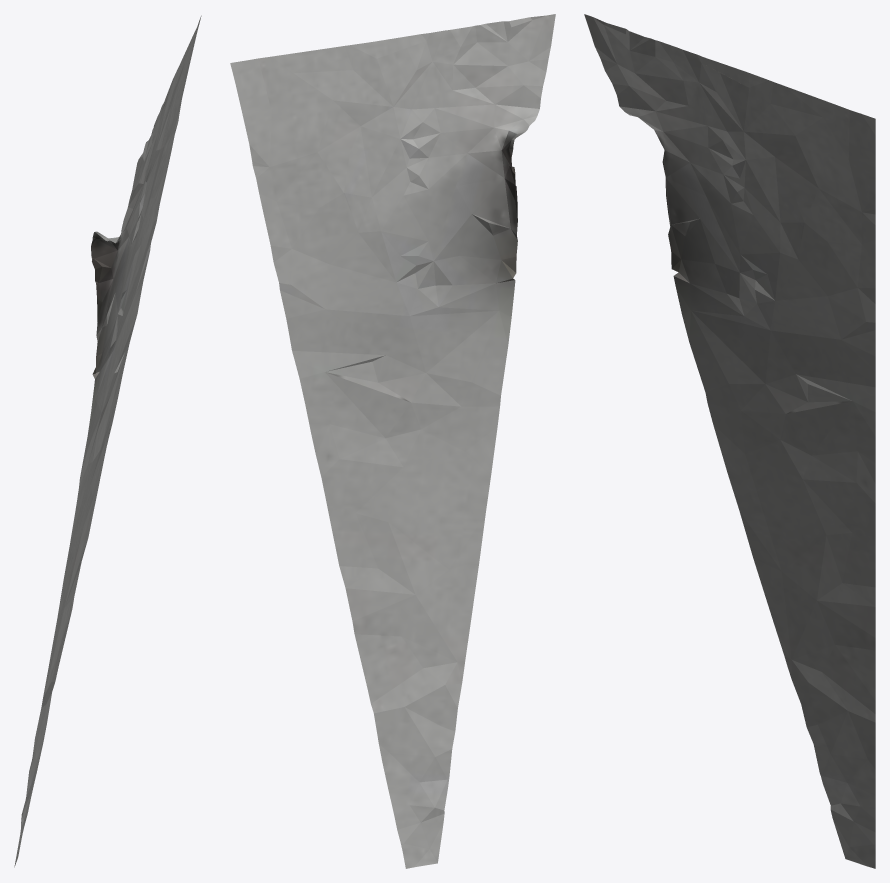
The picture shows the model from 3 angles, left to right: view 1: azimuth 30°, elevation 25°; view 2: azimuth 150°, elevation 25°; view 3: azimuth 270°, elevation 25°; orthographic projection. The views are drawn at different scales.
Bounding box in the file's own units: 0.2227 × 0.8374 × 0.2619.
Materials: 1 (1 with a texture image).
